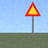sign: (25, 2, 41, 38)
